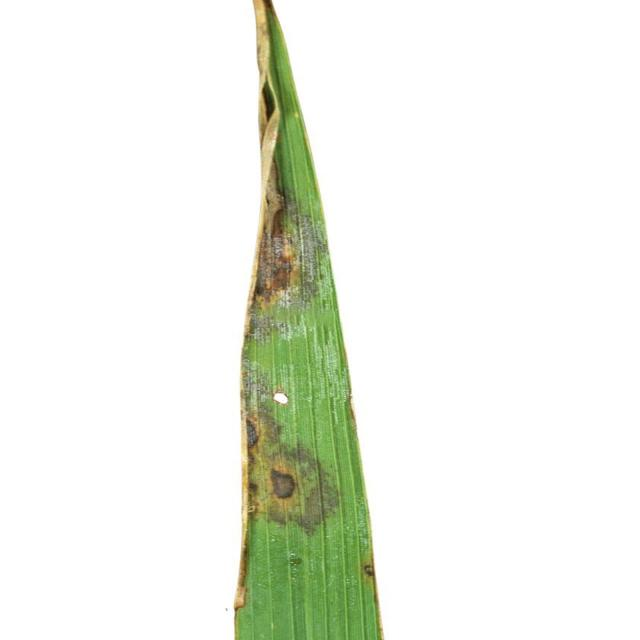Leaf scald: (195, 0, 408, 640)
